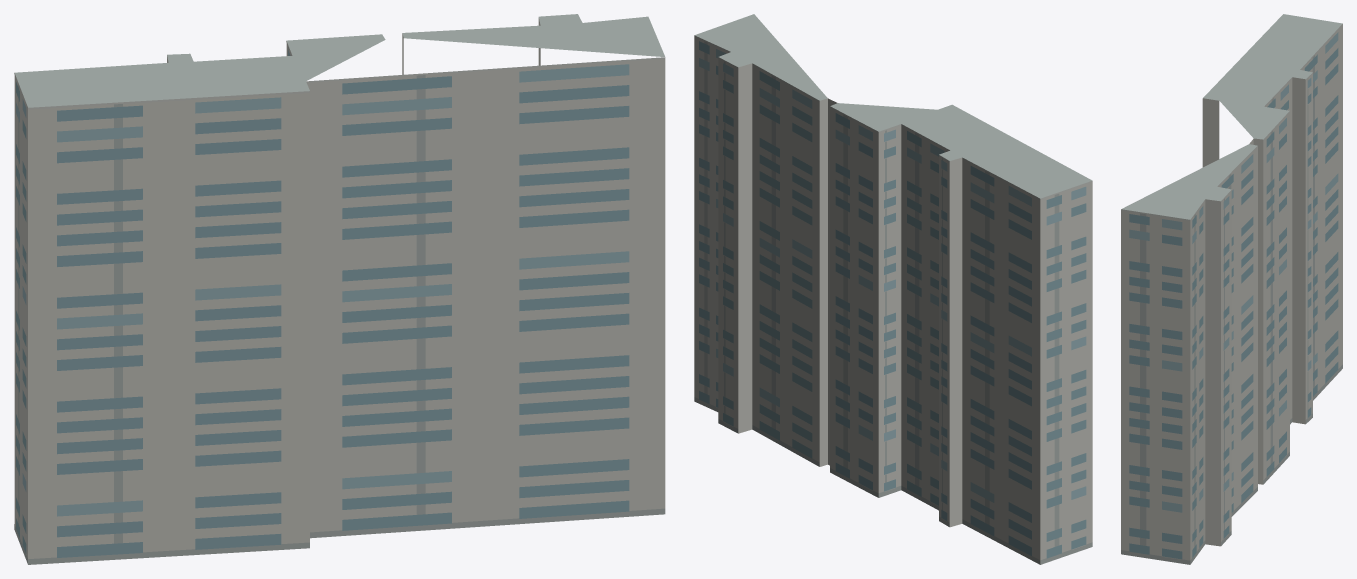
File: survey-upis-32500613.glb
3 renders of one model, left to right at view 1: azimuth 30°, elevation 25°; view 2: azimuth 150°, elevation 25°; view 3: azimuth 270°, elevation 25°, orthographic. The views are drawn at different scales.
Visible parts, largest first — view 1: survey-upis-32500613.tmp; view 2: survey-upis-32500613.tmp; view 3: survey-upis-32500613.tmp.
Part boxes in pixels (bbox=[...]): survey-upis-32500613.tmp: bbox=[14, 14, 665, 564]; survey-upis-32500613.tmp: bbox=[694, 14, 1092, 564]; survey-upis-32500613.tmp: bbox=[1121, 14, 1342, 564].
Size of the model in its own units: 85.83 by 67.1 by 39.08.
